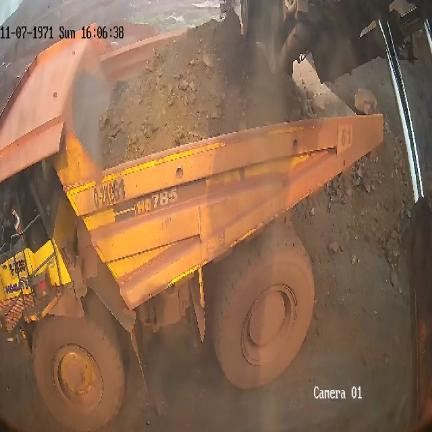pile: (99, 12, 324, 168)
